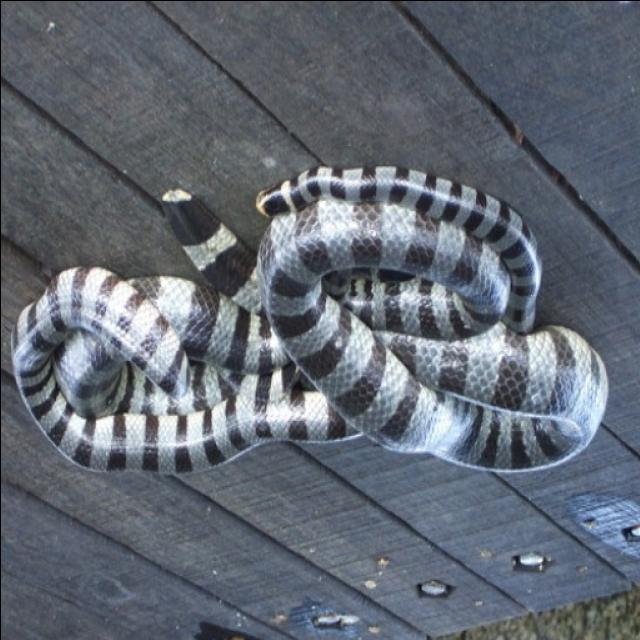snake: (9, 163, 612, 487)
